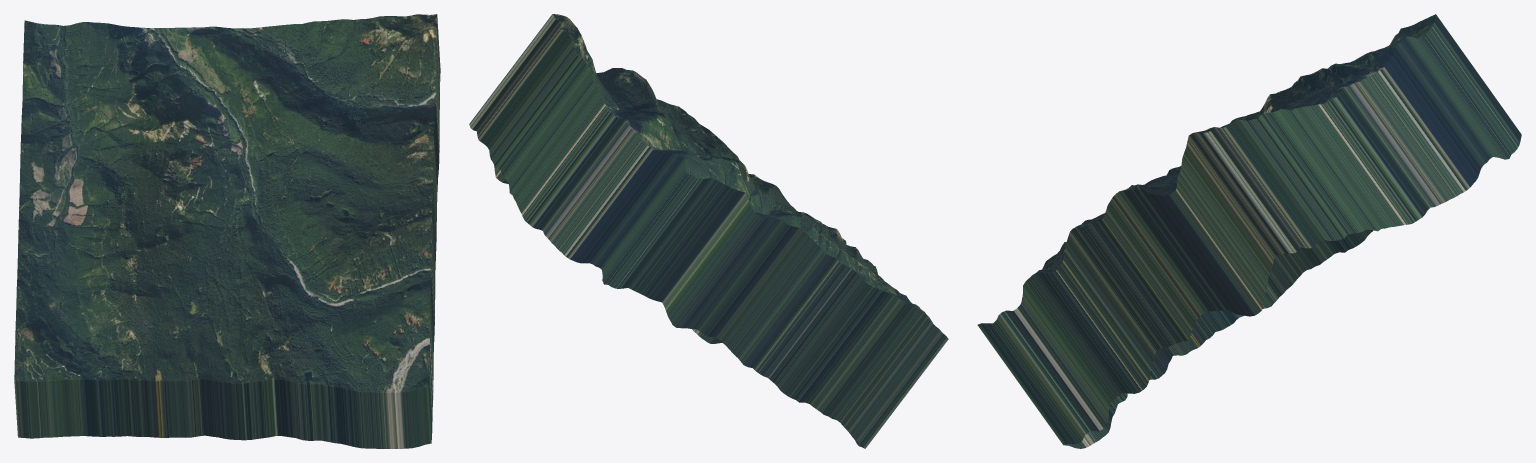
3 renders of one model, left to right at view 1: azimuth 30°, elevation 25°; view 2: azimuth 150°, elevation 25°; view 3: azimuth 270°, elevation 25°, orthographic. The views are drawn at different scales.
Bounding box in the file's own units: 10885 × 8045 × 11028.
Materials: 1 (1 with a texture image).
